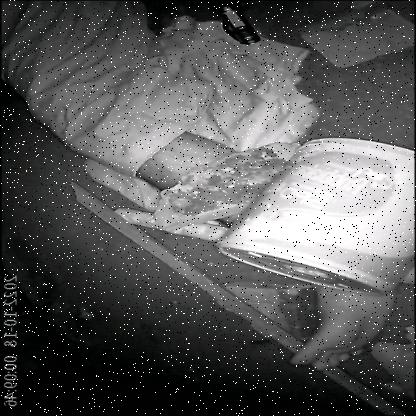leg: (86, 110, 416, 375)
